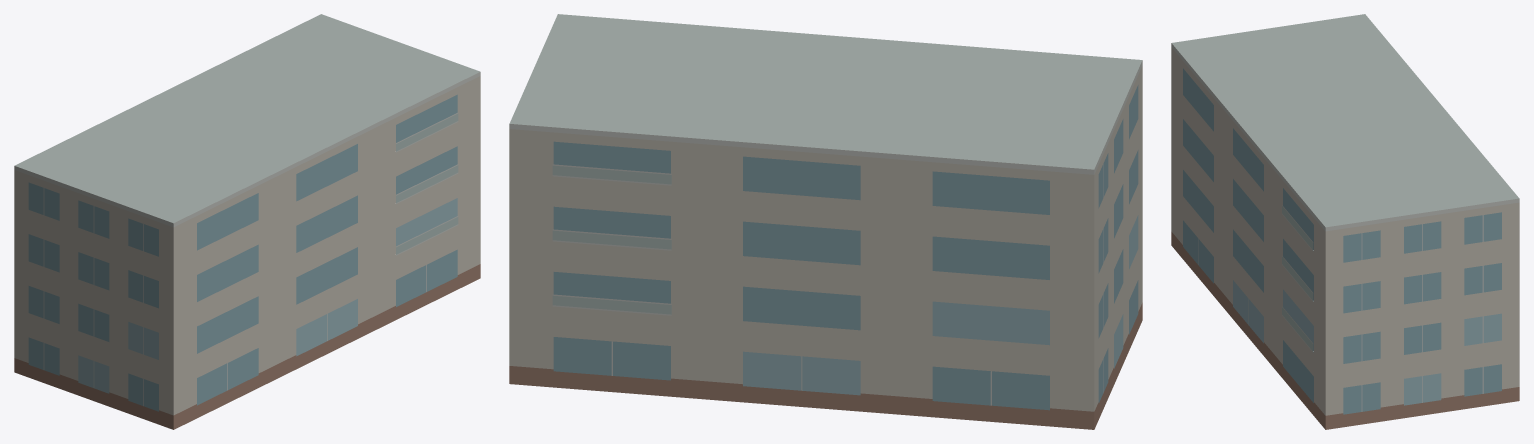
File: residential-dd877e70-4bf8-4143-b23e-49ac17ae9f4c.glb
3 views of the same model, side by side, from view 1: azimuth 30°, elevation 25°; view 2: azimuth 150°, elevation 25°; view 3: azimuth 270°, elevation 25° (orthographic). The views are drawn at different scales.
Parts seen in each view (by area): view 1: residential-dd877e70-4bf8-4143-b23e-49ac17ae9f4c.tmp; view 2: residential-dd877e70-4bf8-4143-b23e-49ac17ae9f4c.tmp; view 3: residential-dd877e70-4bf8-4143-b23e-49ac17ae9f4c.tmp.
Boxes of the visible parts, x1,y1,x2,y2 form: residential-dd877e70-4bf8-4143-b23e-49ac17ae9f4c.tmp: (14,14,480,429); residential-dd877e70-4bf8-4143-b23e-49ac17ae9f4c.tmp: (509,14,1142,429); residential-dd877e70-4bf8-4143-b23e-49ac17ae9f4c.tmp: (1171,14,1519,429).
Size of the model in its own units: 27.58 by 12.2 by 19.01.
